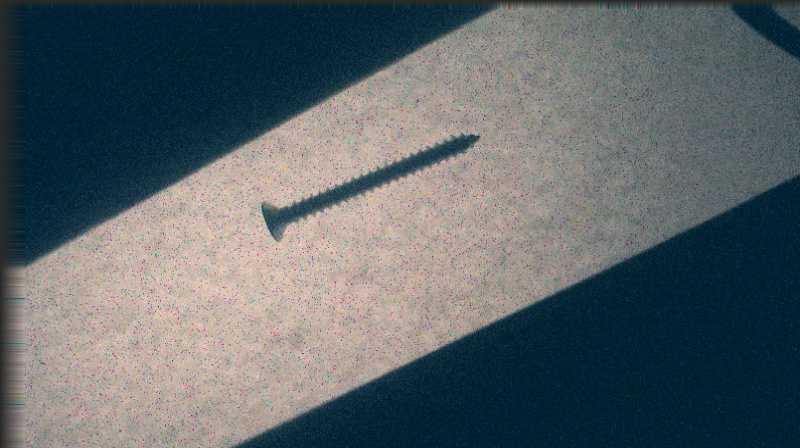S002: (255, 128, 485, 246)
